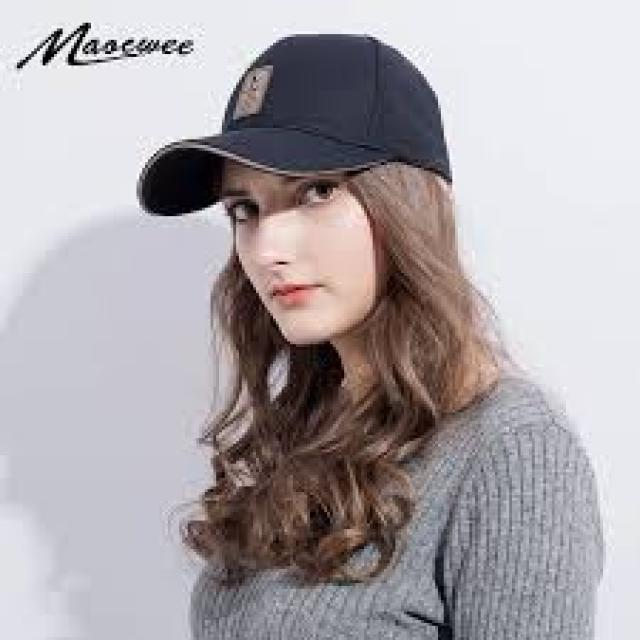cap: (125, 14, 476, 248)
